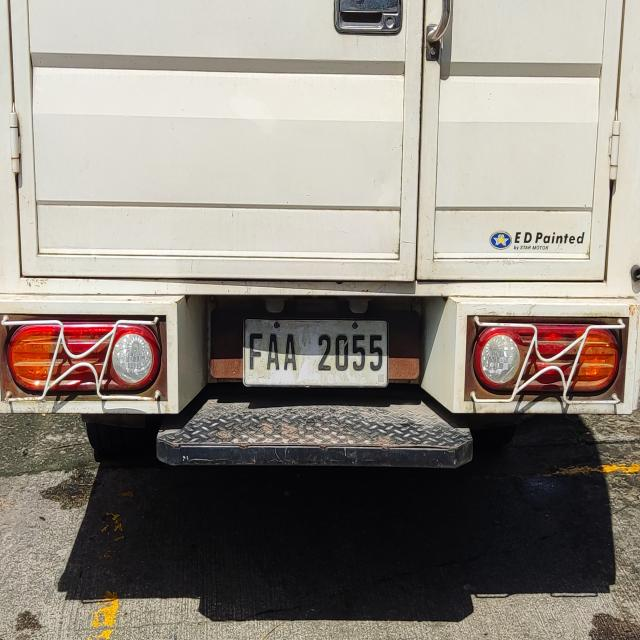plate: (242, 316, 391, 390)
